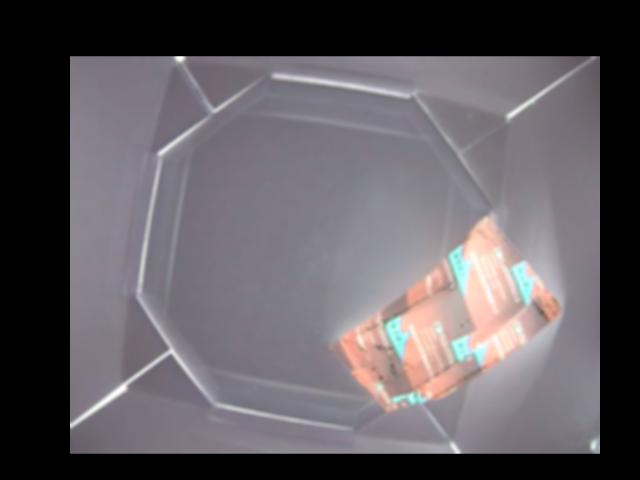Medicine: (328, 215, 564, 410)
